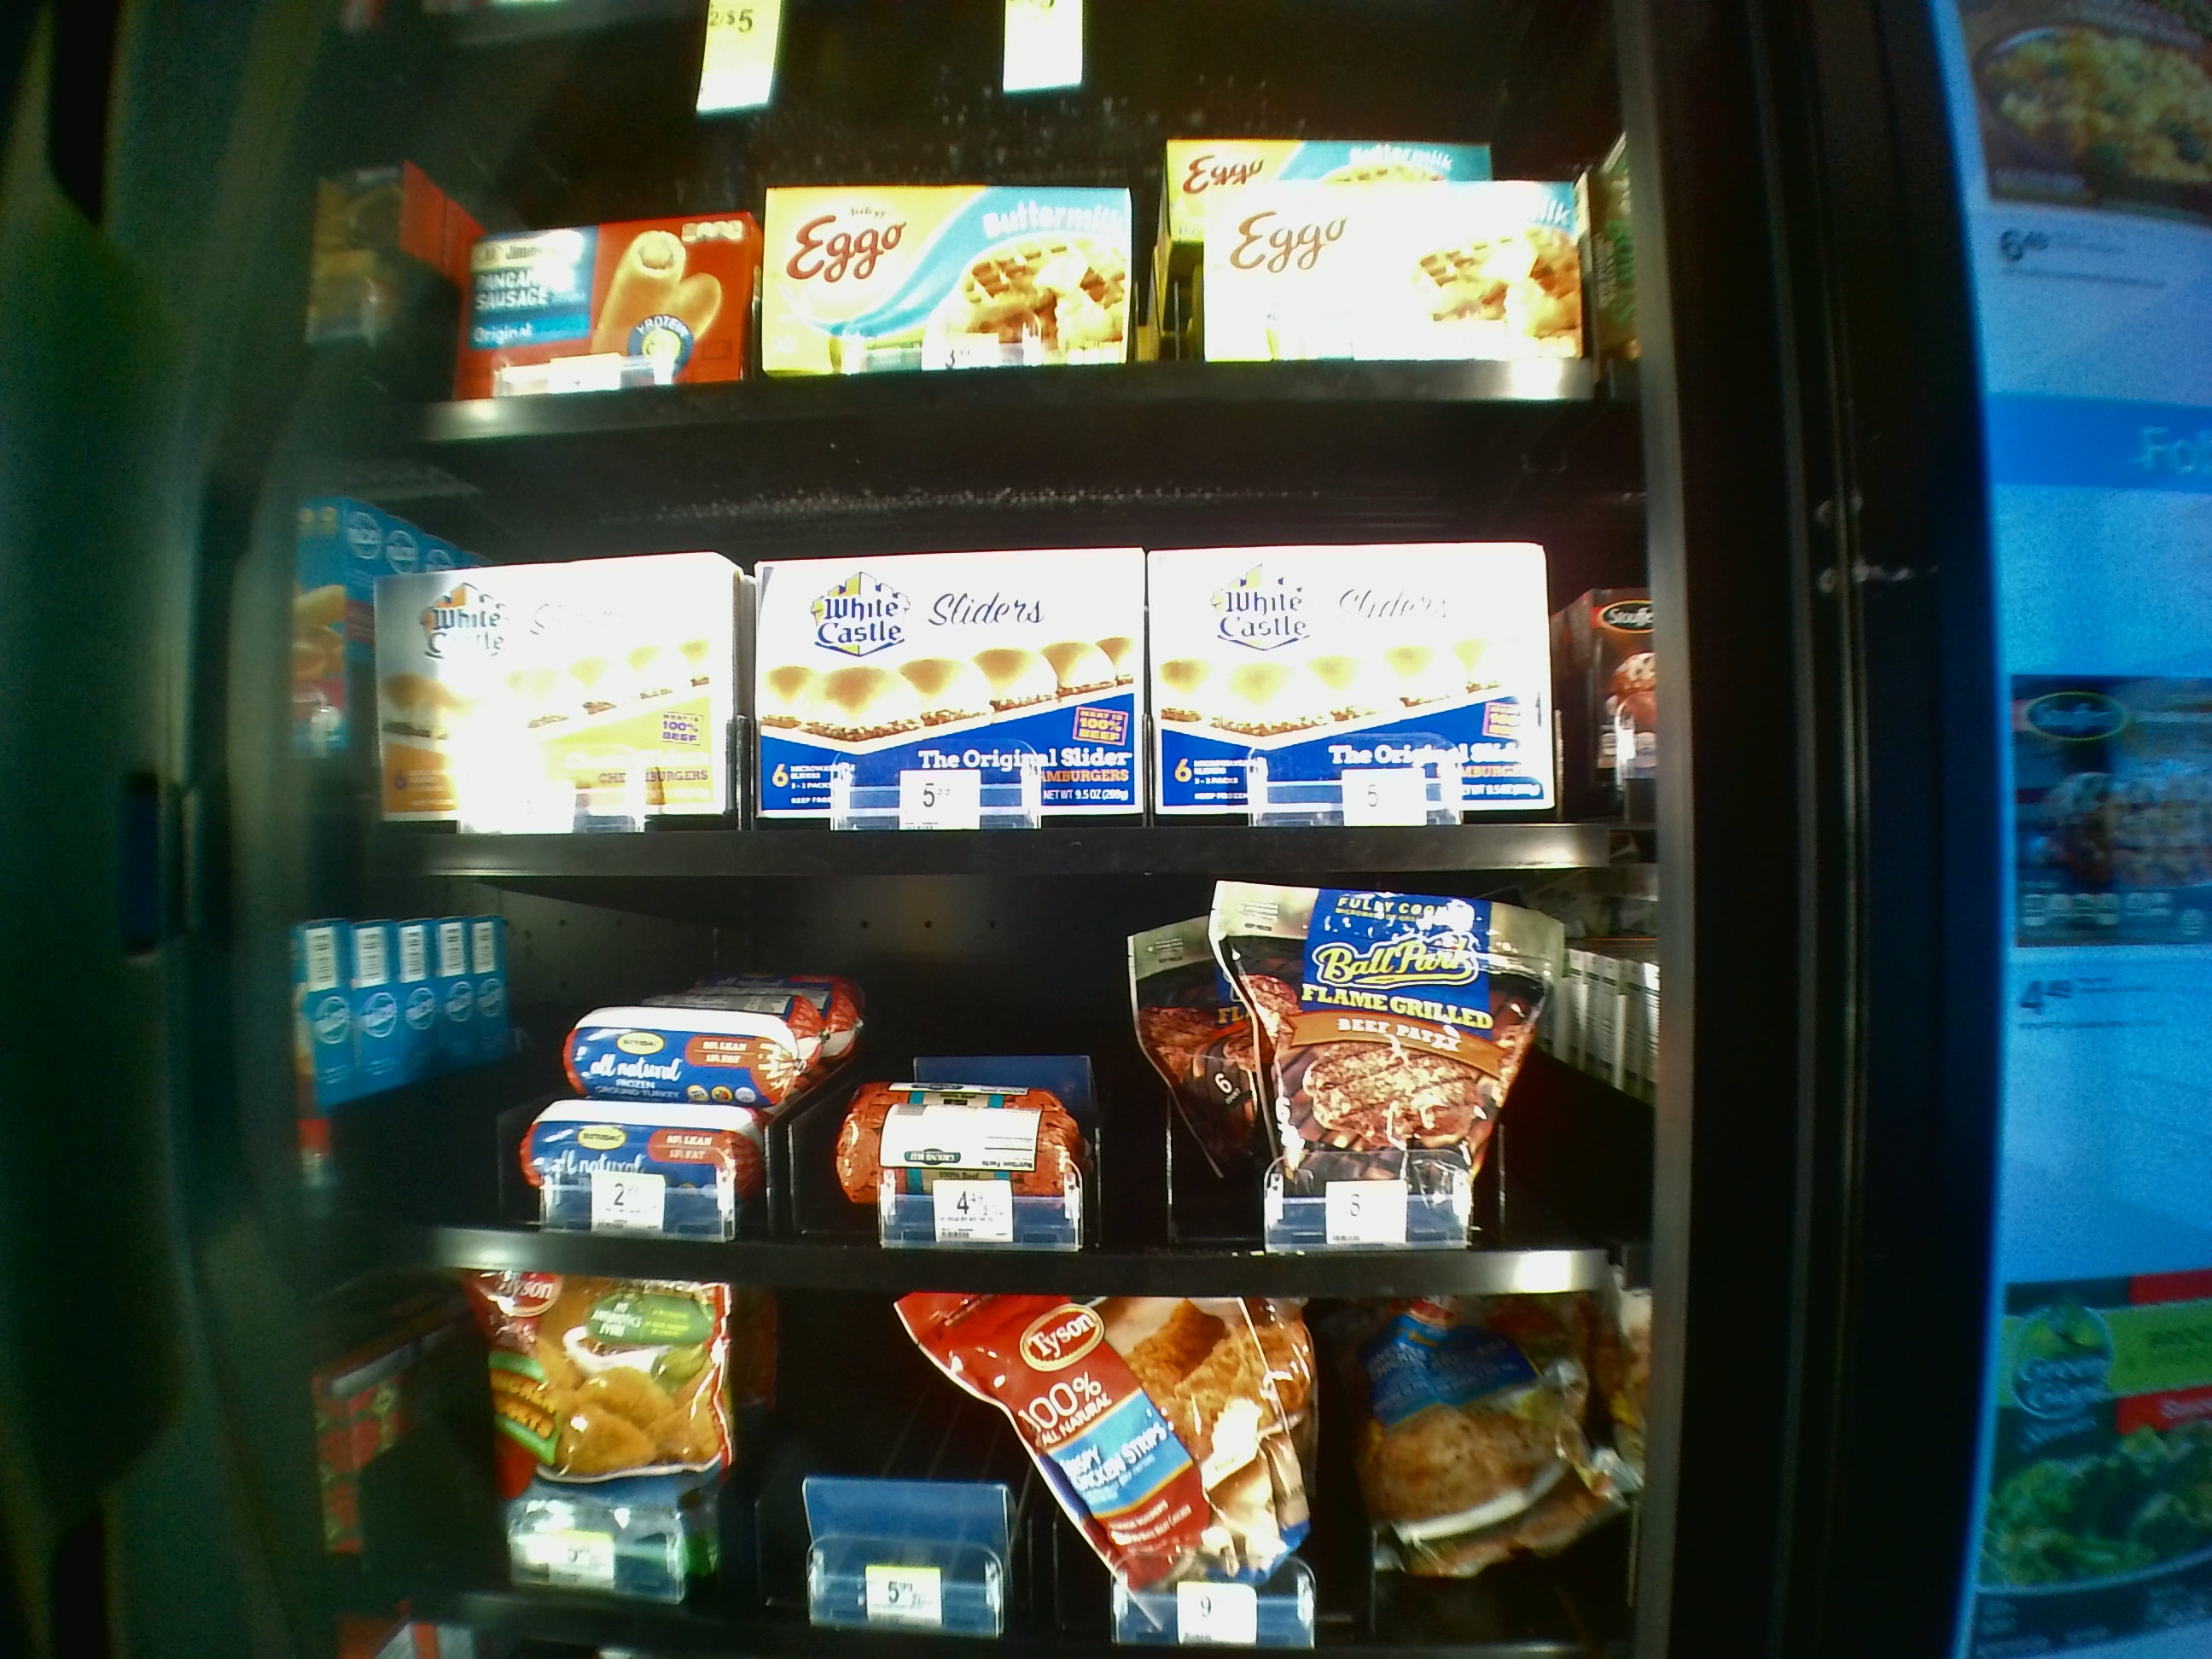shelf: (314, 410, 1634, 877), (314, 887, 1639, 1291)
